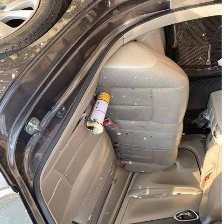aerosol_cans: (80, 89, 112, 135)
